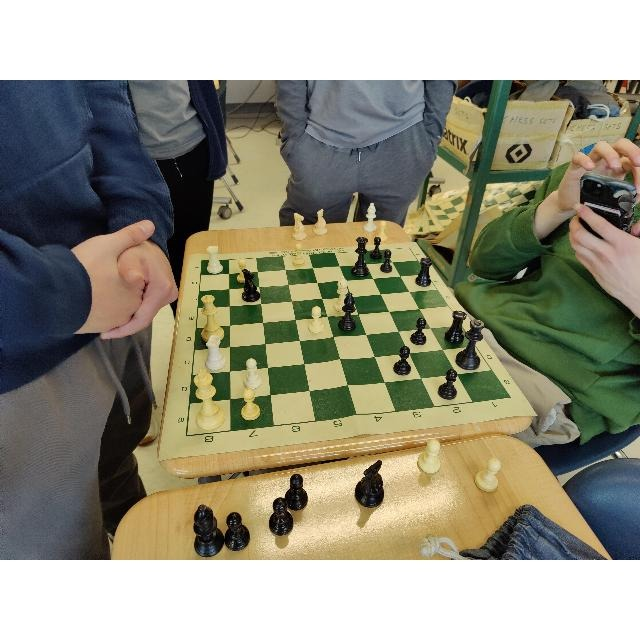black-bishop: (339, 292, 357, 331)
black-king: (455, 320, 485, 370)
black-knight: (242, 269, 260, 303)
black-pawn: (438, 369, 458, 401), (392, 345, 411, 375), (411, 317, 427, 345), (380, 250, 393, 272), (370, 236, 382, 258)
black-queen: (351, 237, 369, 277)
black-rook: (444, 311, 466, 344), (415, 257, 433, 287)
white-bishop: (333, 275, 349, 312)
white-king: (193, 369, 225, 430)
white-pawn: (241, 388, 261, 420), (243, 358, 262, 389), (309, 306, 325, 334), (293, 244, 305, 268), (237, 259, 247, 283)
white-queen: (201, 295, 225, 342)
white-rook: (205, 335, 227, 370), (207, 245, 223, 273)
